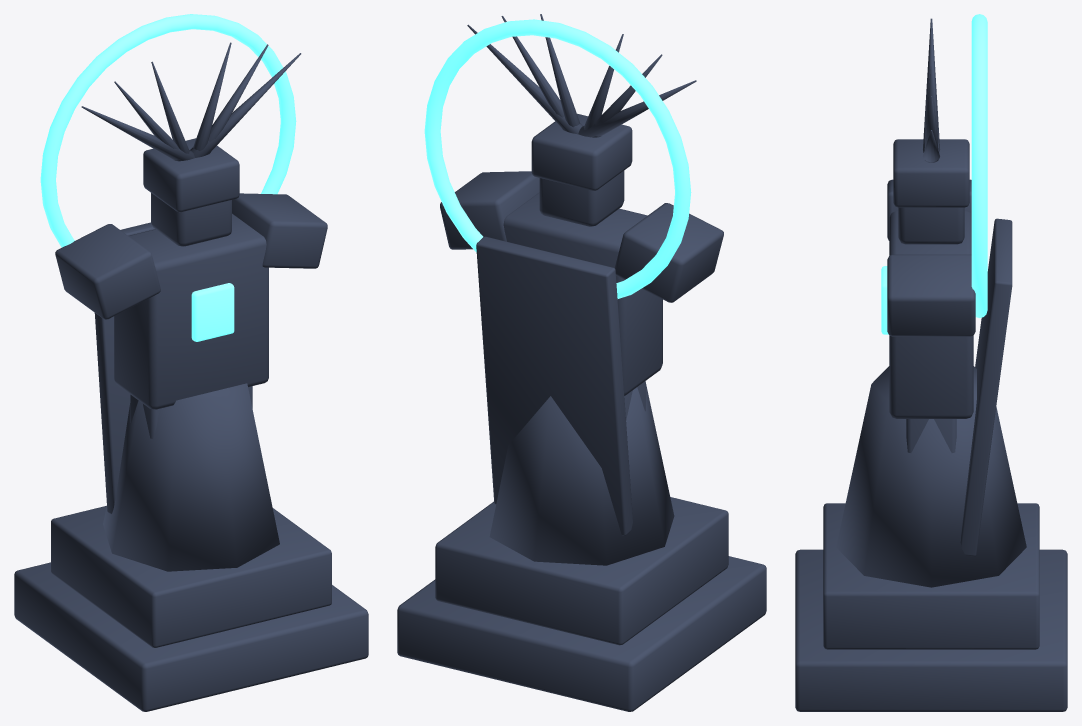
File: statue_hela.glb
3 renders of one model, left to right at view 1: azimuth 30°, elevation 25°; view 2: azimuth 150°, elevation 25°; view 3: azimuth 270°, elevation 25°, orthographic. The views are drawn at different scales.
Parts seen in each view (by area): view 1: robe, pedestal_1, pedestal_2, torso, necro_halo, pauldron_-1, pauldron_1, helm, cape, head, chest_core, antler_3 (+5 smaller); view 2: cape, pedestal_1, pedestal_2, robe, necro_halo, torso, pauldron_-1, helm, pauldron_1, head, antler_3, antler_-3 (+4 smaller); view 3: robe, pedestal_1, pedestal_2, torso, cape, pauldron_1, necro_halo, helm, head, leg_1, antler_-1, chest_core (+1 smaller).
Part boxes in pixels (bbox=[...]): robe: bbox=[103, 383, 279, 571]; pedestal_1: bbox=[14, 562, 368, 711]; pedestal_2: bbox=[51, 506, 331, 647]; torso: bbox=[114, 213, 268, 409]; necro_halo: bbox=[40, 14, 296, 247]; pauldron_-1: bbox=[55, 224, 160, 319]; pauldron_1: bbox=[232, 193, 327, 268]; helm: bbox=[143, 138, 239, 212]; cape: bbox=[94, 222, 155, 514]; head: bbox=[151, 193, 231, 246]; chest_core: bbox=[191, 283, 234, 341]; antler_3: bbox=[190, 53, 301, 157]; cape: bbox=[476, 236, 632, 535]; pedestal_1: bbox=[397, 556, 766, 711]; pedestal_2: bbox=[435, 497, 728, 645]; robe: bbox=[489, 382, 674, 565]; necro_halo: bbox=[424, 19, 691, 298]; torso: bbox=[503, 192, 662, 395]; pauldron_-1: bbox=[615, 203, 723, 302]; helm: bbox=[531, 113, 632, 190]; pauldron_1: bbox=[440, 171, 539, 249]; head: bbox=[539, 170, 624, 226]; antler_3: bbox=[467, 24, 583, 134]; antler_-3: bbox=[578, 80, 696, 137]; robe: bbox=[836, 366, 1026, 587]; pedestal_1: bbox=[795, 549, 1067, 711]; pedestal_2: bbox=[823, 503, 1039, 649]; torso: bbox=[889, 211, 973, 418]; cape: bbox=[960, 218, 1012, 556]; pauldron_1: bbox=[887, 254, 975, 336]; necro_halo: bbox=[971, 14, 987, 317]; helm: bbox=[893, 139, 969, 207]; head: bbox=[898, 207, 964, 244]; leg_1: bbox=[906, 419, 956, 452]; antler_-1: bbox=[924, 26, 938, 142]; chest_core: bbox=[881, 266, 888, 334].
Bounding box in the file's own units: 7.6 × 17.3 × 6.8.
